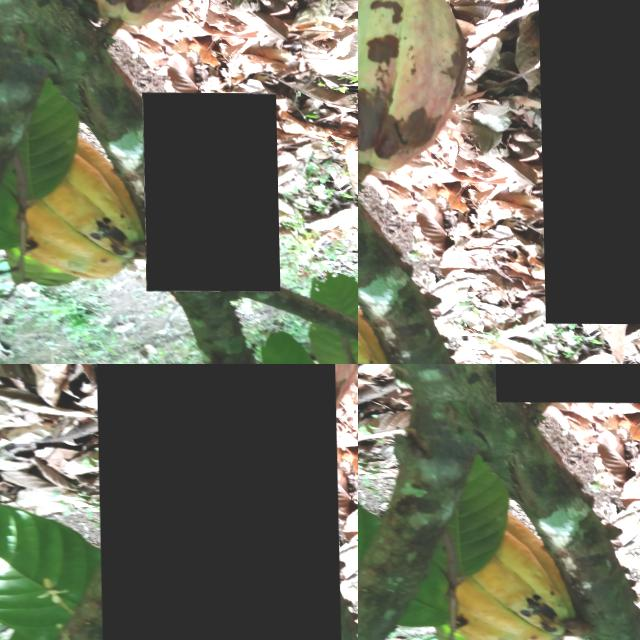Fitoftora: (95, 364, 341, 640), (141, 92, 278, 292), (437, 526, 576, 640)
Monilia: (362, 46, 524, 305), (537, 0, 640, 323)
